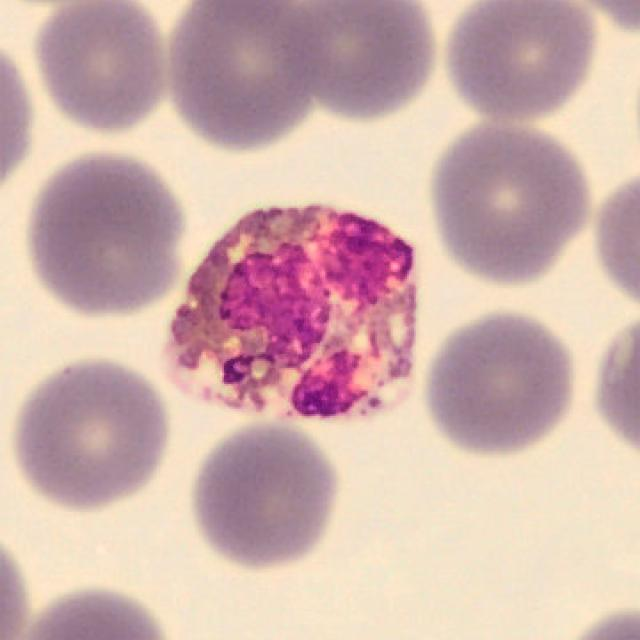Eosinofilo: (162, 206, 418, 421)
